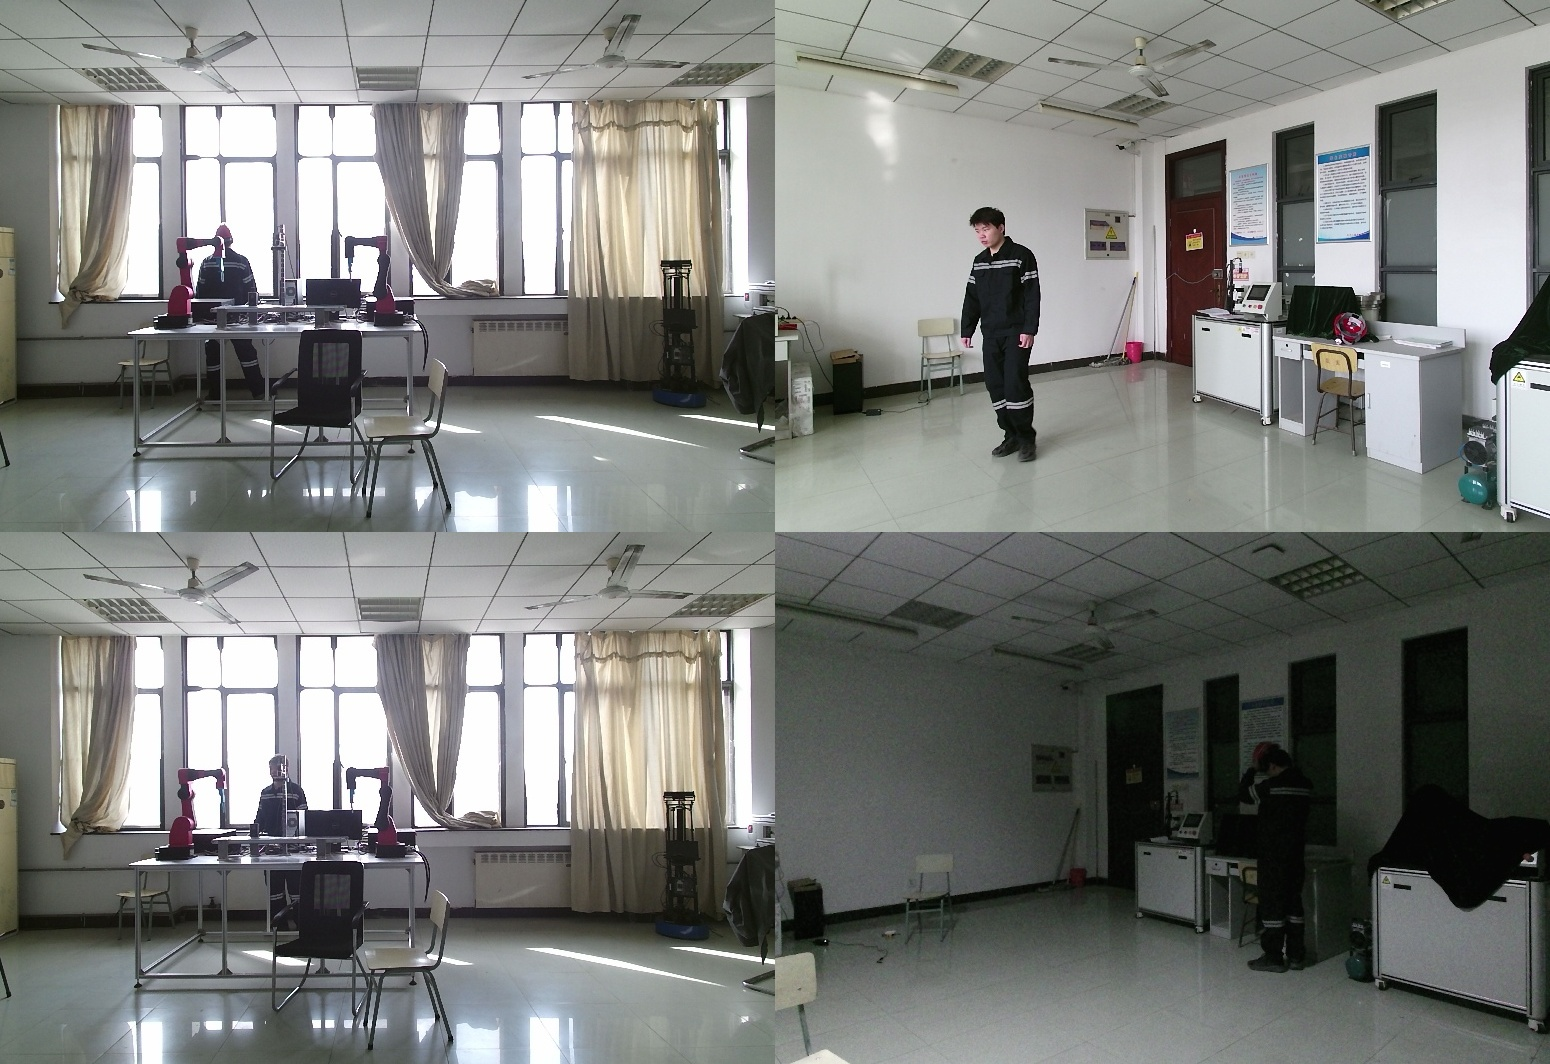person: (962, 207, 1064, 458), (1237, 739, 1333, 971), (196, 227, 270, 412), (255, 757, 319, 931)
